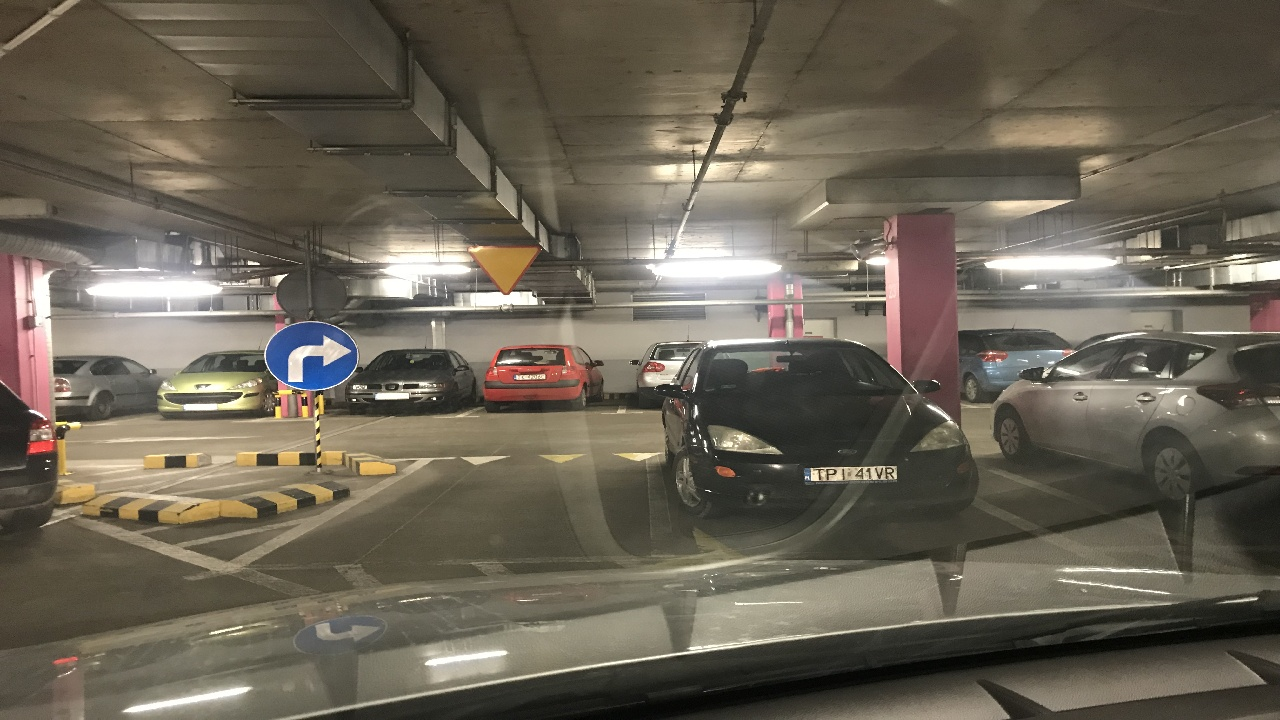A7: (459, 240, 546, 296)
C2: (254, 317, 366, 388)
